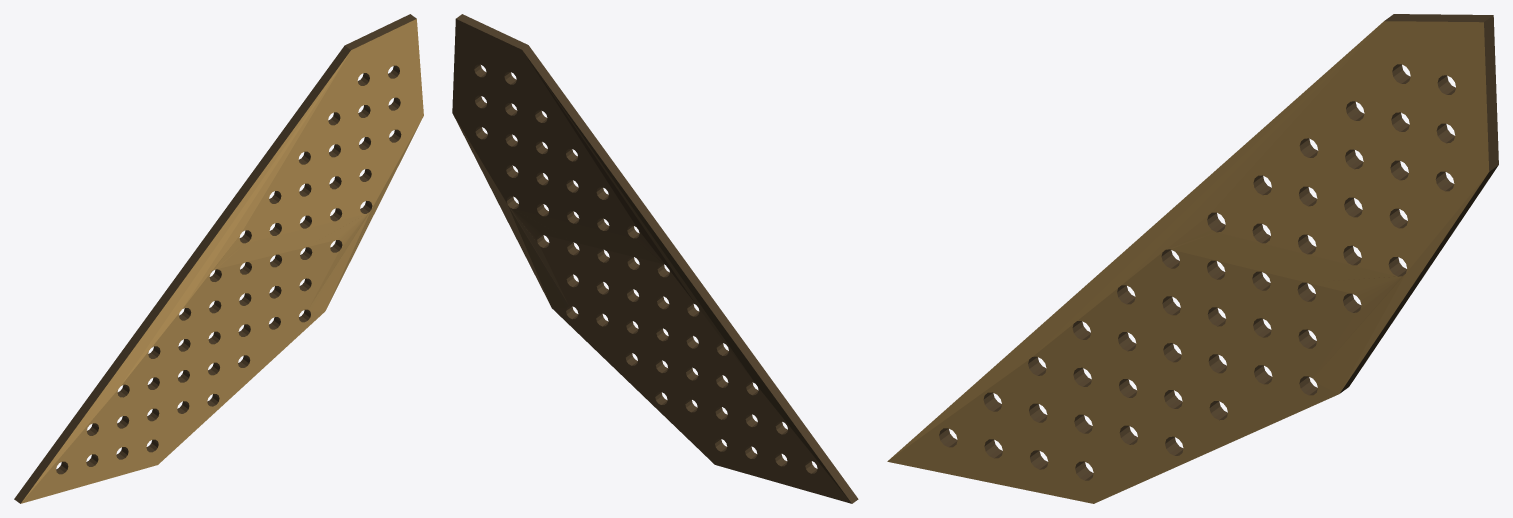
Rendered from 14-se-gold-backing-01-d199fc951fb0.glb.
The picture shows the model from 3 angles, left to right: view 1: azimuth 30°, elevation 25°; view 2: azimuth 150°, elevation 25°; view 3: azimuth 330°, elevation 25°; orthographic projection. The views are drawn at different scales.
Visible parts, largest first — view 1: SE_GOLD_BACKING_01; view 2: SE_GOLD_BACKING_01; view 3: SE_GOLD_BACKING_01.
Boxes of the visible parts, box(x1,y1,x2,y2) form: SE_GOLD_BACKING_01: box(14, 14, 423, 503); SE_GOLD_BACKING_01: box(452, 14, 858, 503); SE_GOLD_BACKING_01: box(887, 14, 1498, 503).
Bounding box in the file's own units: 3.04 × 2.81 × 0.1316.
